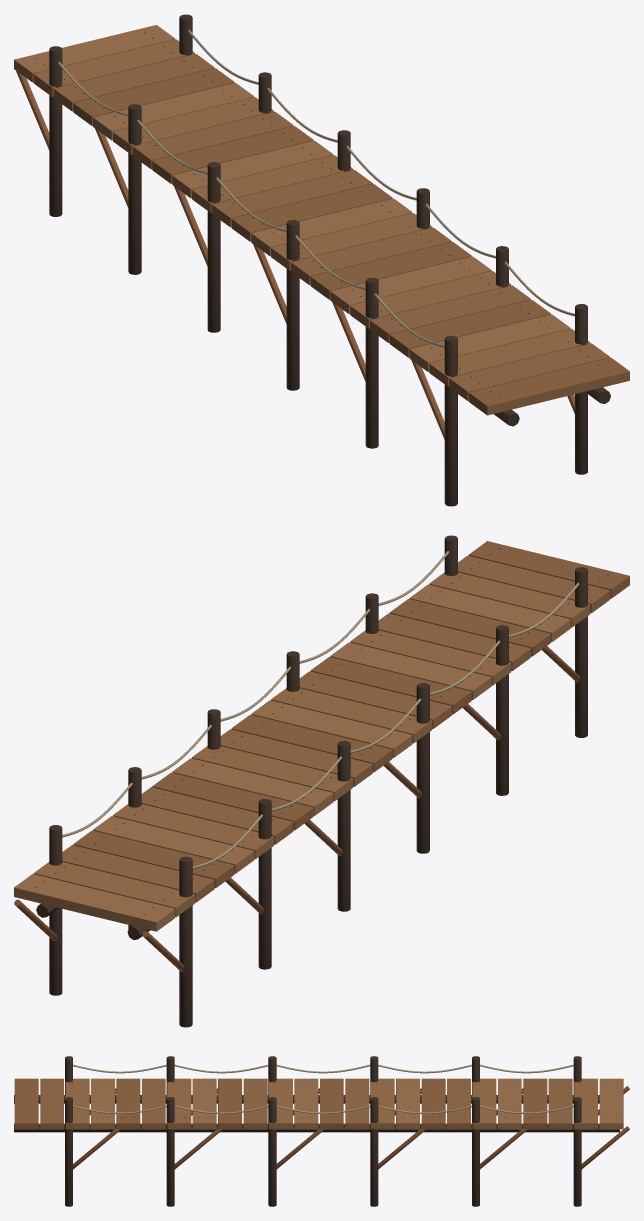
Rendered from Jetty.fbx.
3 views of the same model, one above another, from view 1: azimuth 30°, elevation 25°; view 2: azimuth 150°, elevation 25°; view 3: azimuth 270°, elevation 25° (orthographic). The views are drawn at different scales.
Parts seen in each view (by area): view 1: Weathered planks, pegs, braces and mooring posts; view 2: Weathered planks, pegs, braces and mooring posts; view 3: Weathered planks, pegs, braces and mooring posts.
Part boxes in pixels (bbox=[...]): Weathered planks, pegs, braces and mooring posts: bbox=[14, 14, 629, 506]; Weathered planks, pegs, braces and mooring posts: bbox=[14, 535, 629, 1027]; Weathered planks, pegs, braces and mooring posts: bbox=[14, 1056, 629, 1206].
Bounding box in the file's own units: 2.5 × 2.77 × 14.54.
